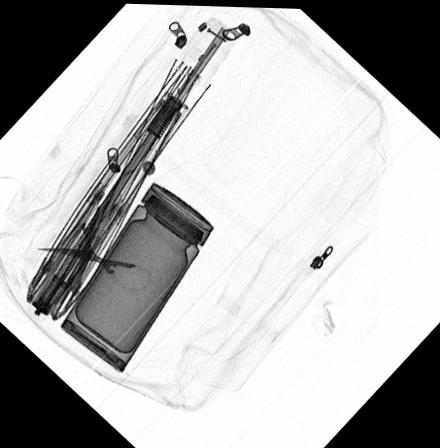Scissors: (35, 190, 153, 299)
